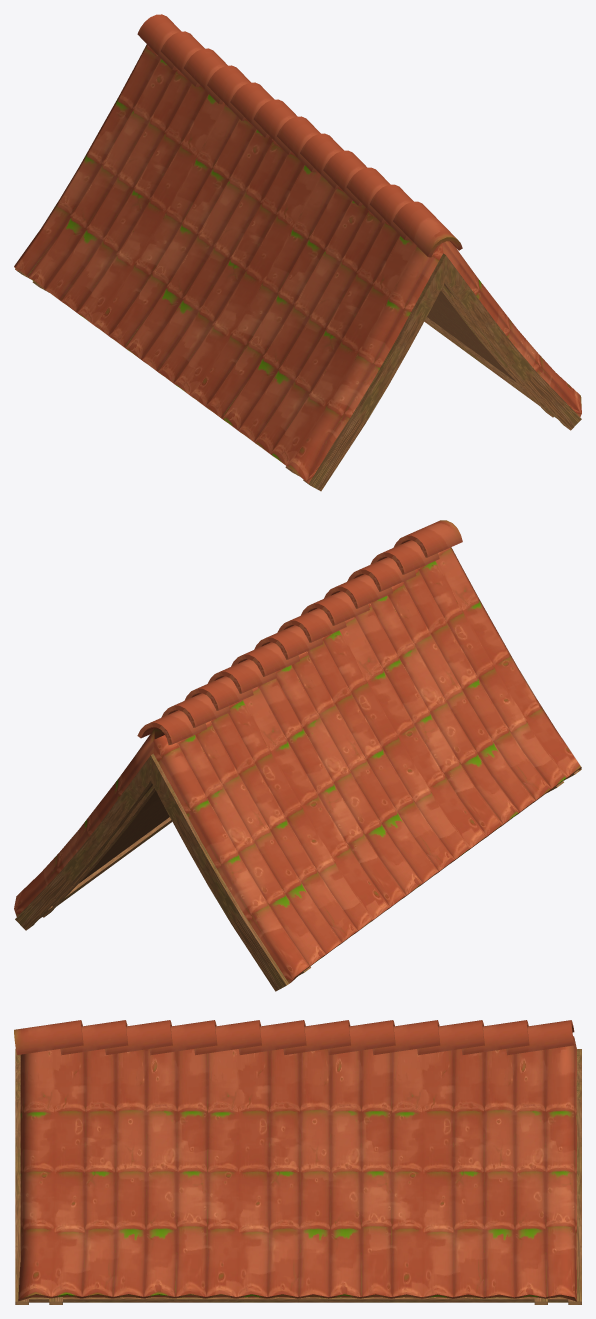
The model's file is Roof_RoundTiles_4x8.glb.
The picture shows the model from 3 angles, top to bottom: view 1: azimuth 30°, elevation 25°; view 2: azimuth 150°, elevation 25°; view 3: azimuth 270°, elevation 25°; orthographic projection. The views are drawn at different scales.
Visible parts, largest first — view 1: Roof_RoundTiles_4x8; view 2: Roof_RoundTiles_4x8; view 3: Roof_RoundTiles_4x8.
Part boxes in pixels (x1,y1,x2,y2): Roof_RoundTiles_4x8: [14, 14, 581, 491]; Roof_RoundTiles_4x8: [14, 520, 581, 991]; Roof_RoundTiles_4x8: [14, 1020, 581, 1304].
Size of the model in its own units: 5.51 by 4.23 by 9.68.
Materials: 2 (2 with a texture image).
